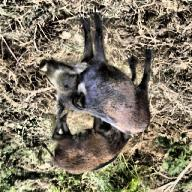boar: (39, 8, 153, 136), (42, 112, 132, 176)
